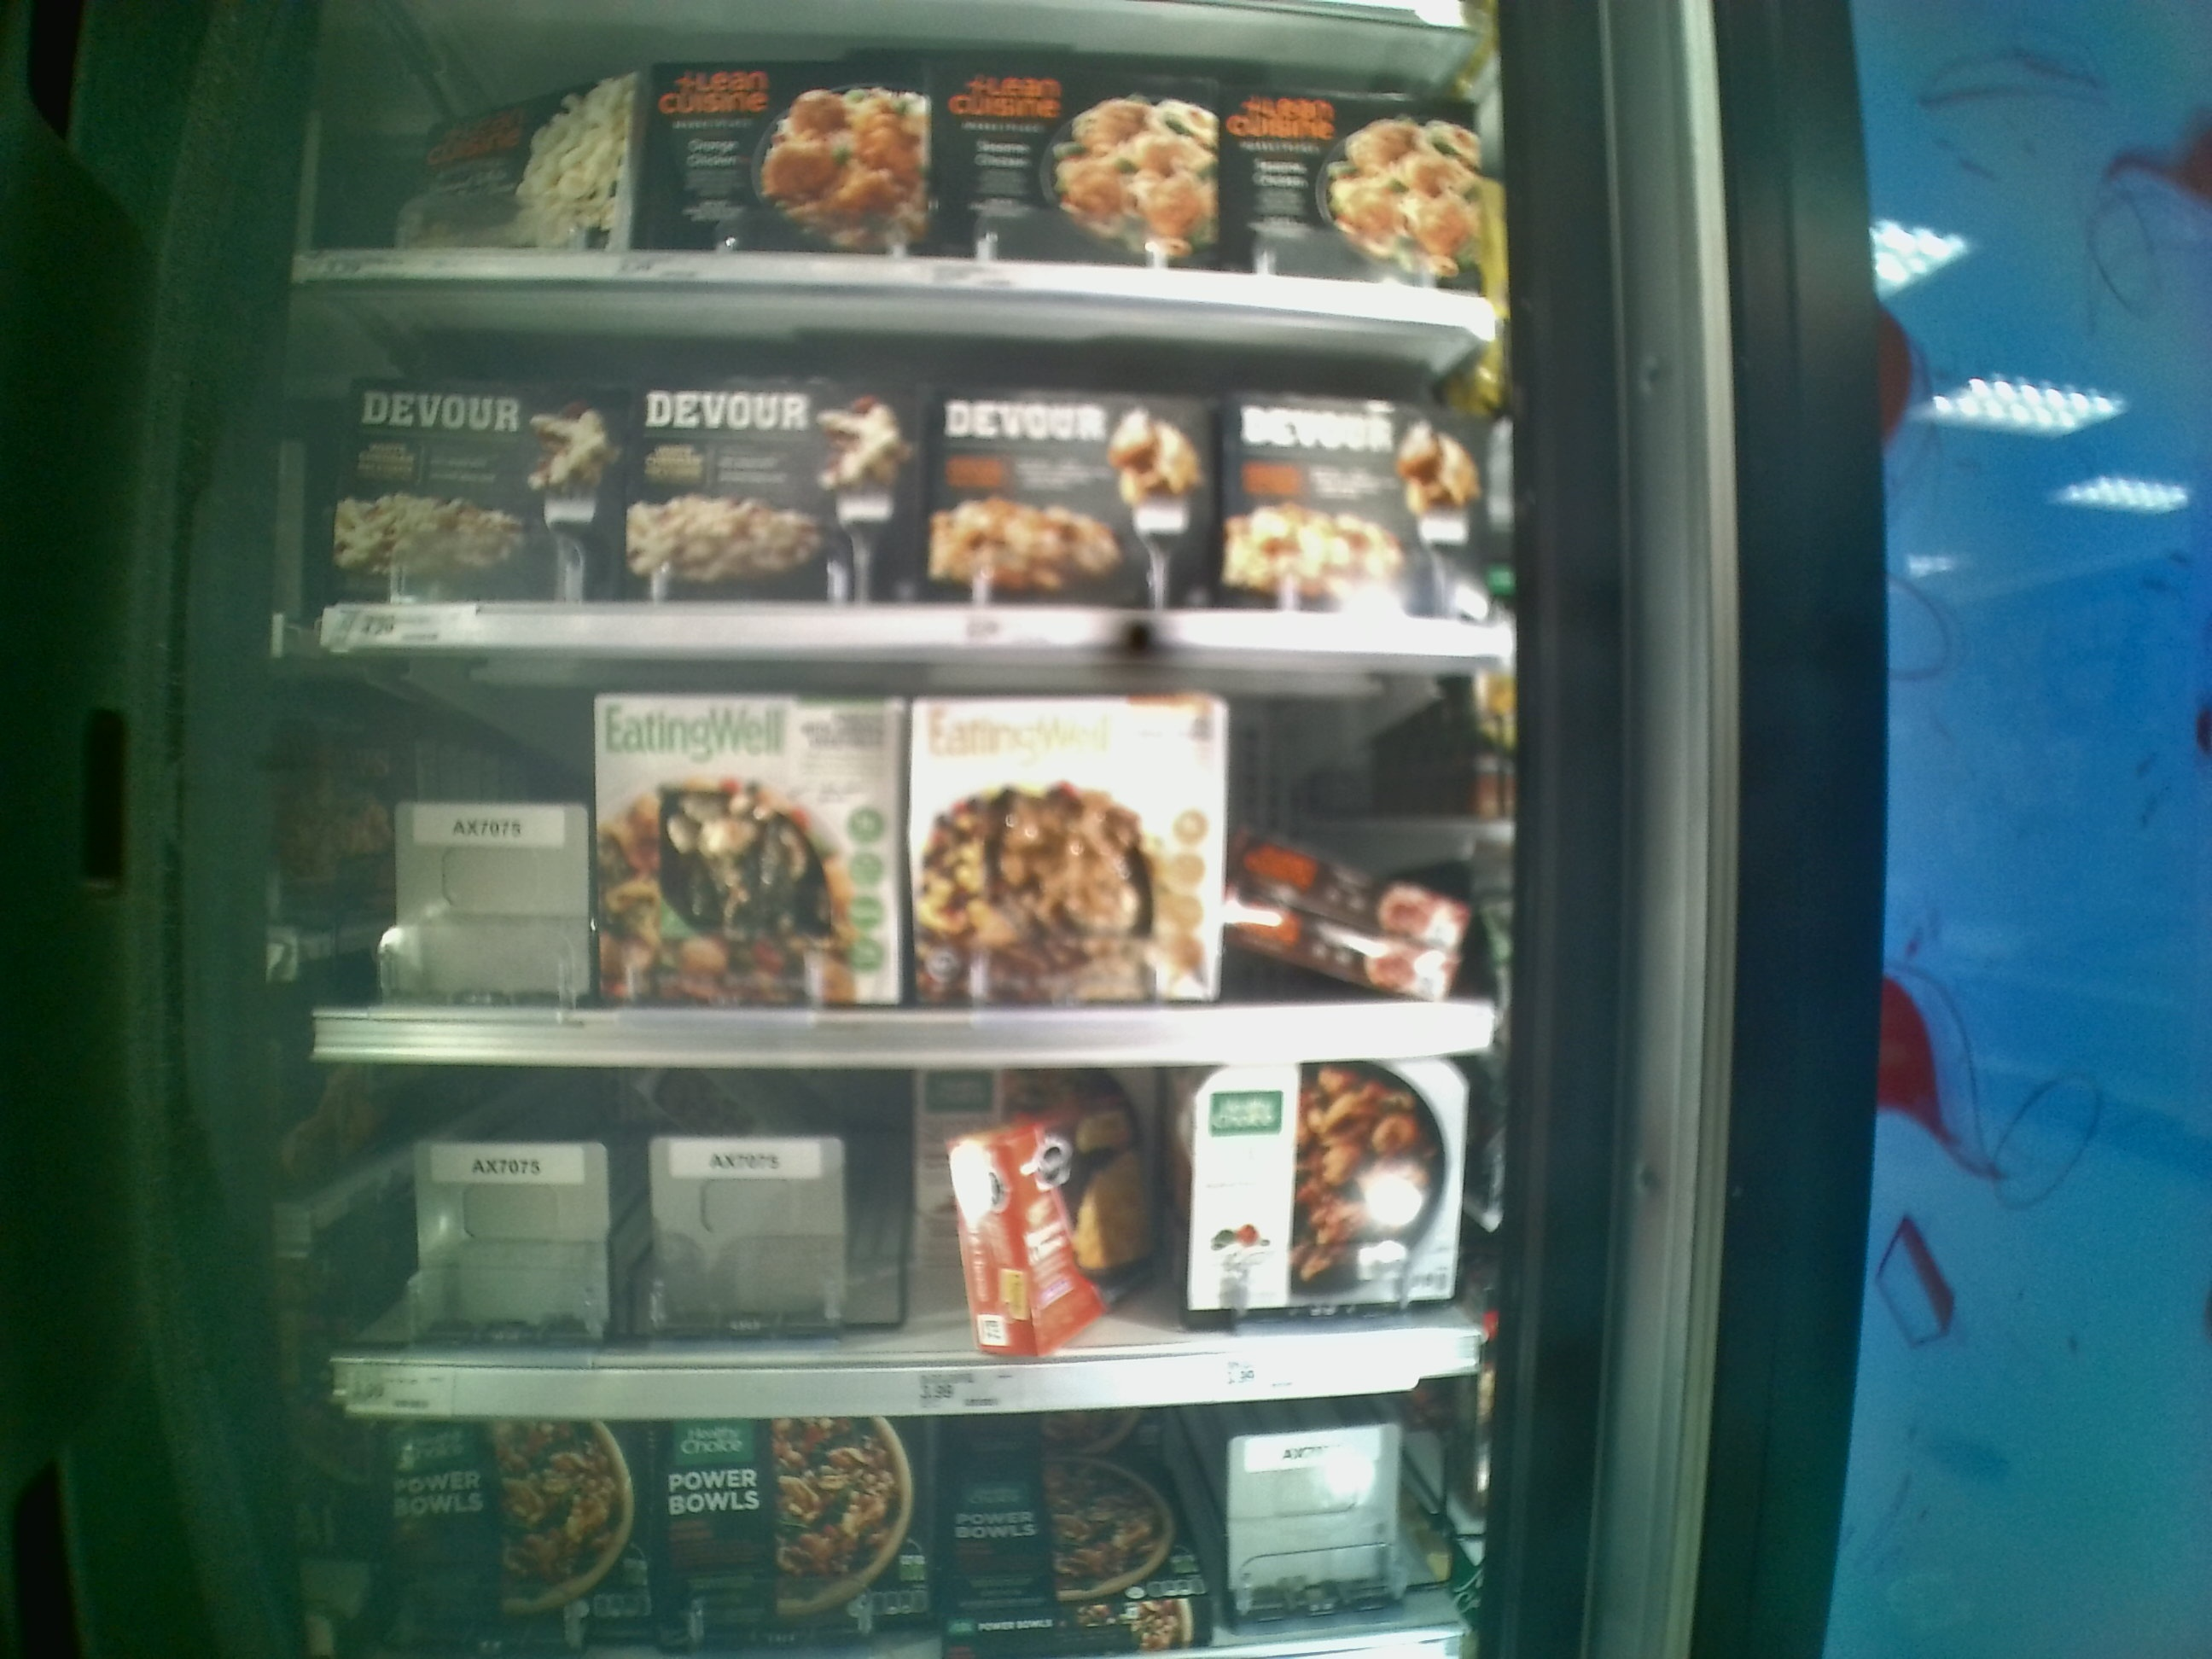shelf: (296, 648, 1501, 1073), (307, 1047, 1526, 1419), (298, 279, 1498, 653)
